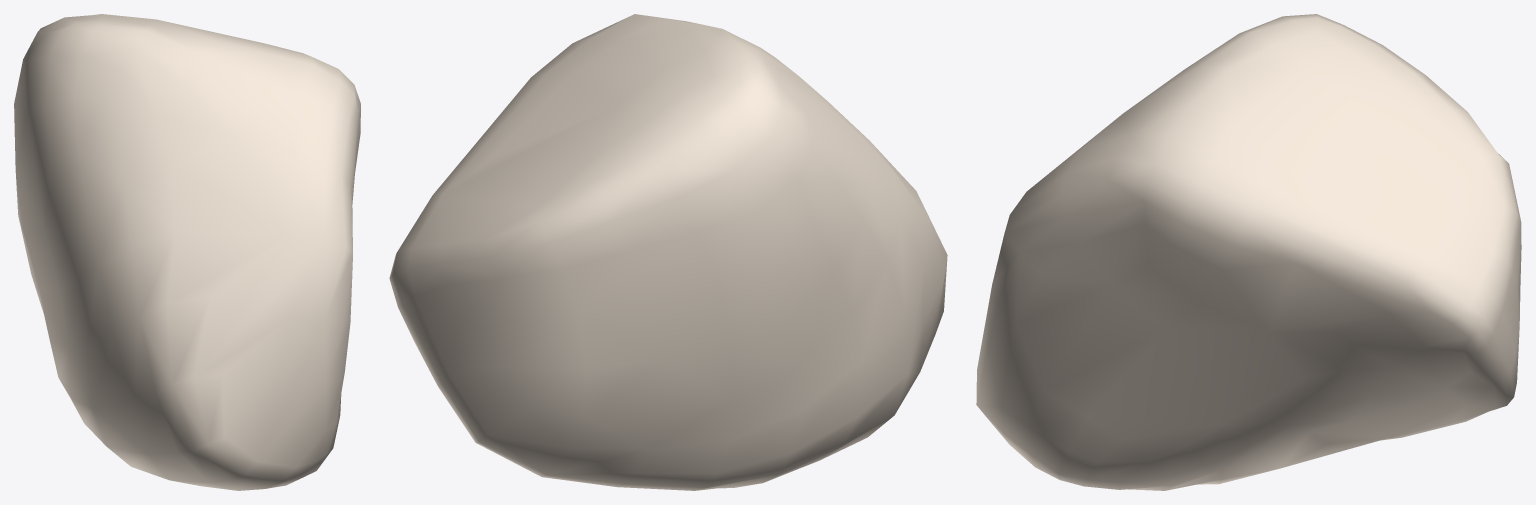
The model's file is left_triquetrum.glb.
3 renders of one model, left to right at view 1: azimuth 30°, elevation 25°; view 2: azimuth 150°, elevation 25°; view 3: azimuth 270°, elevation 25°, orthographic. The views are drawn at different scales.
Parts seen in each view (by area): view 1: Triquetrum.r; view 2: Triquetrum.r; view 3: Triquetrum.r.
Boxes of the visible parts, bbox=[...] form: Triquetrum.r: bbox=[14, 14, 360, 490]; Triquetrum.r: bbox=[389, 14, 947, 490]; Triquetrum.r: bbox=[976, 14, 1521, 490].
Bounding box in the file's own units: 0.0108 × 0.0138 × 0.0155.
